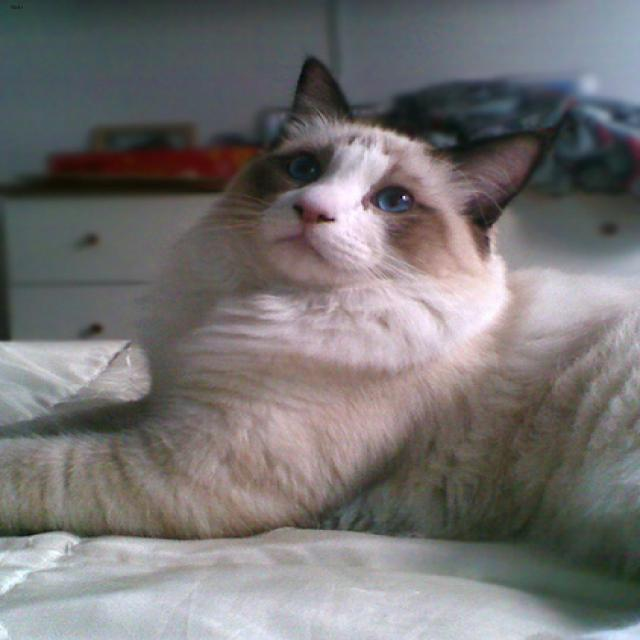Ragdoll: (226, 55, 555, 282)
